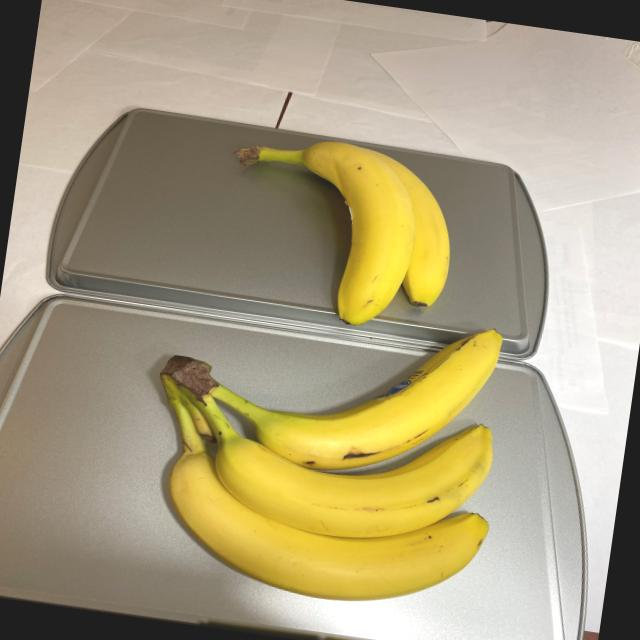banana: (113, 280, 520, 628), (214, 128, 463, 338)
